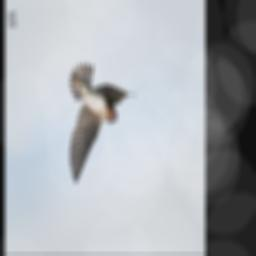Swallow: (60, 48, 144, 187)
